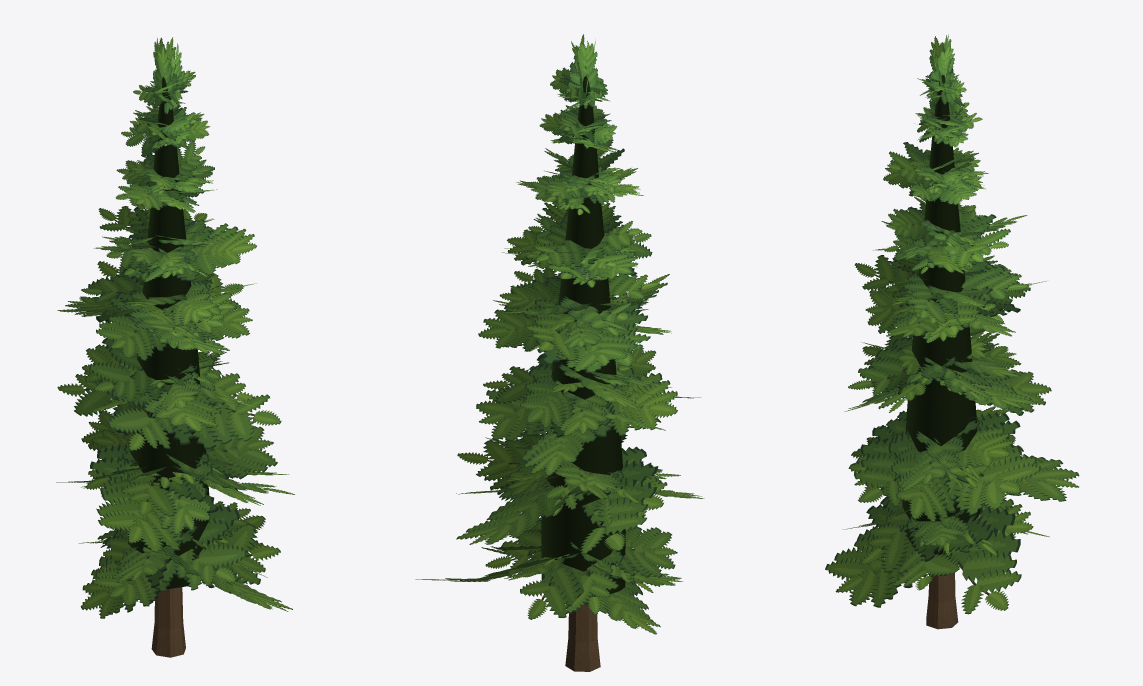
File: fir4_a.glb
3 views of the same model, side by side, from view 1: azimuth 30°, elevation 25°; view 2: azimuth 150°, elevation 25°; view 3: azimuth 270°, elevation 25° (orthographic). The views are drawn at different scales.
Visible parts, largest first — view 1: fir4_a; view 2: fir4_a; view 3: fir4_a.
Part boxes in pixels (x1,y1,x2,y2): fir4_a: [56, 37, 294, 657]; fir4_a: [415, 34, 704, 671]; fir4_a: [825, 34, 1079, 629].
Bounding box in the file's own units: 3.74 × 7.06 × 3.79.
2 materials, 2 textured.
